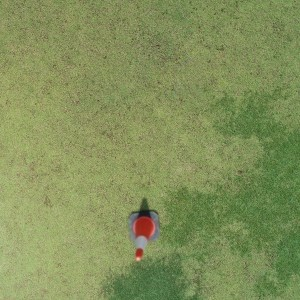traffic cone: (128, 210, 159, 261)
